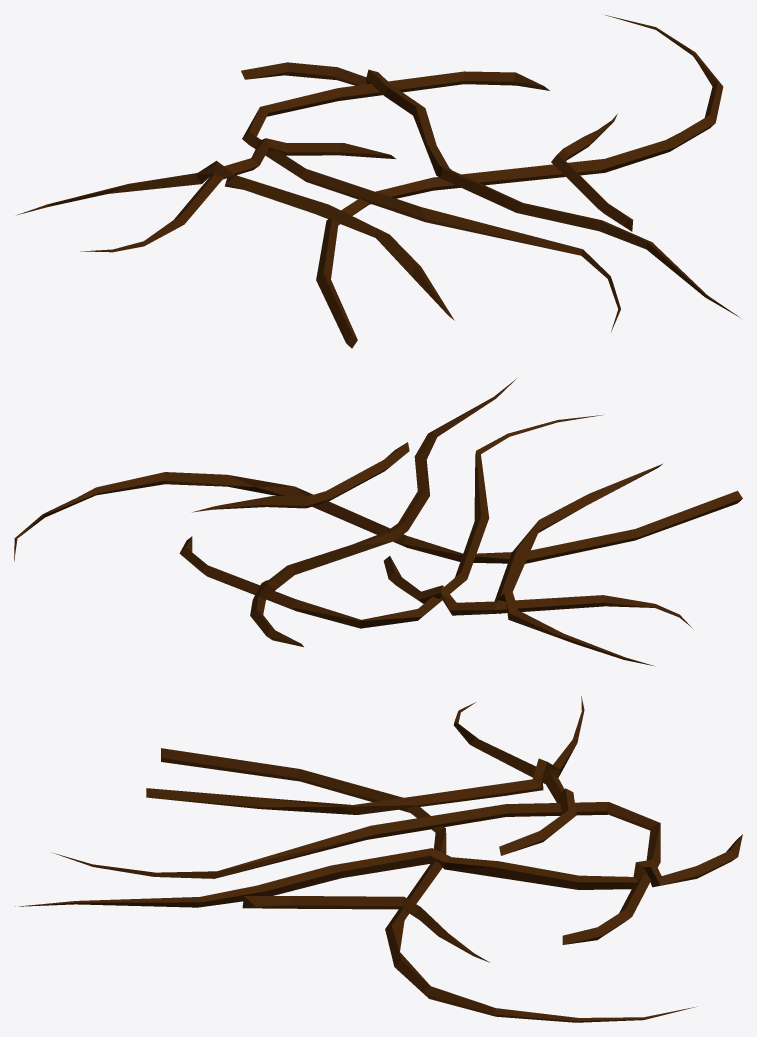
3 views of the same model, one above another, from view 1: azimuth 30°, elevation 25°; view 2: azimuth 150°, elevation 25°; view 3: azimuth 270°, elevation 25° (orthographic). The views are drawn at different scales.
Parts seen in each view (by area): view 1: Root_02; view 2: Root_02; view 3: Root_02.
Part boxes in pixels (left/top/right/bottom): Root_02: left=16, top=15, right=739, bottom=348; Root_02: left=14, top=378, right=742, bottom=666; Root_02: left=15, top=696, right=742, bottom=1022.
Bounding box in the file's own units: 324 × 14.35 × 307.
